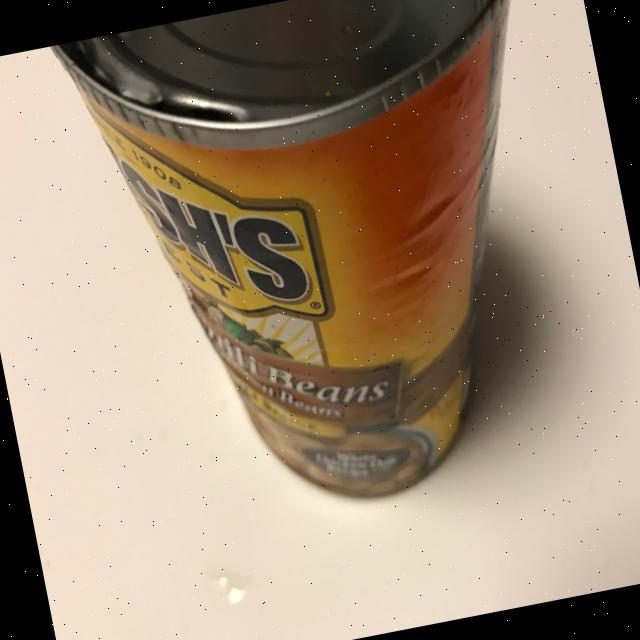metal: (49, 0, 614, 543)
